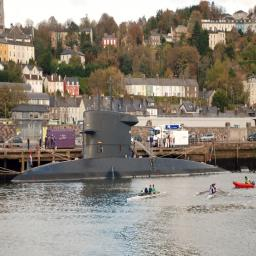submarine: (14, 110, 236, 183)
